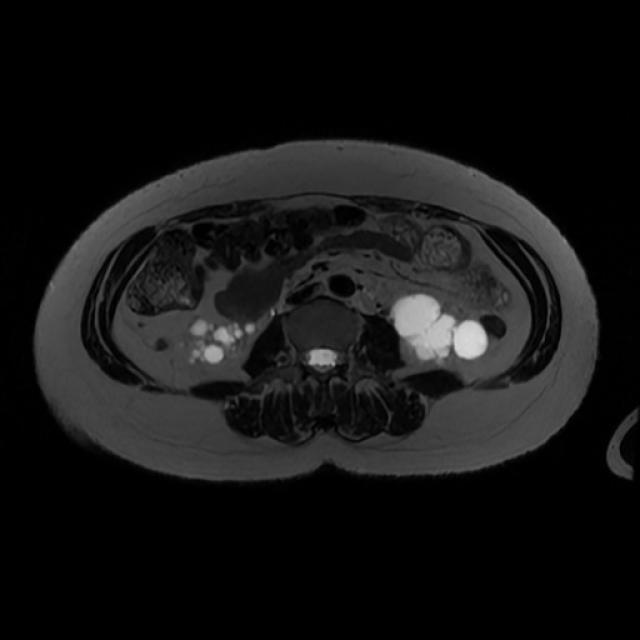sag: (187, 314, 260, 366)
sol: (388, 293, 491, 366)
